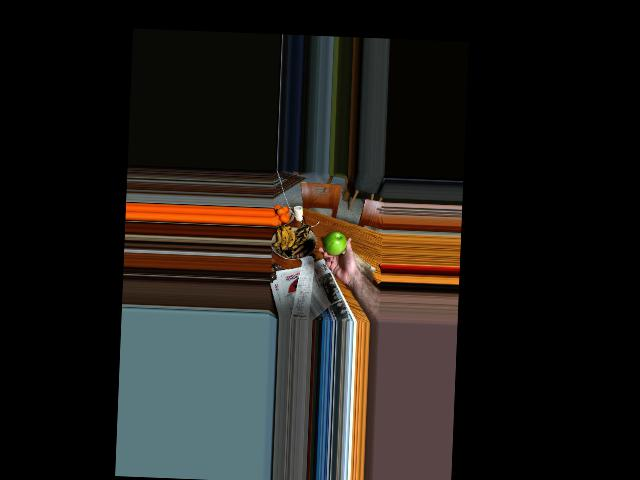apple: (322, 229, 346, 257)
